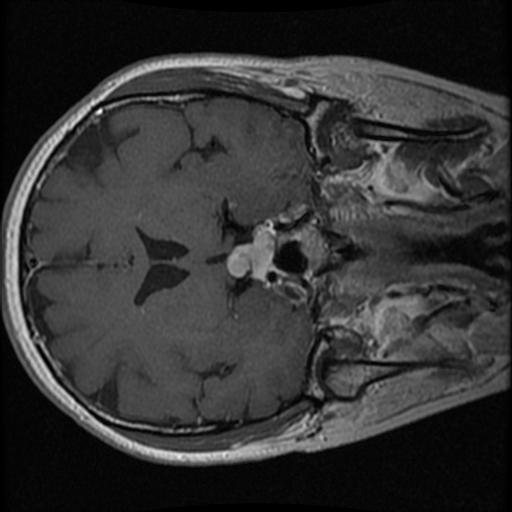pituitary tumour: (226, 226, 276, 280)
